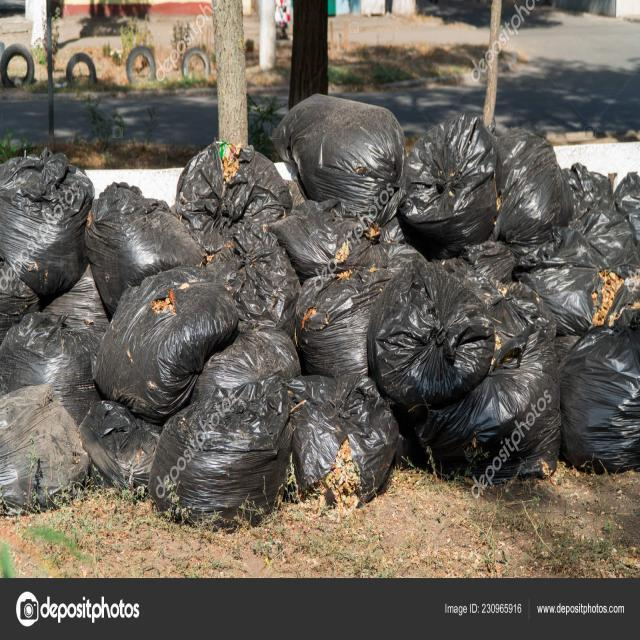garbage: (0, 86, 640, 532)
